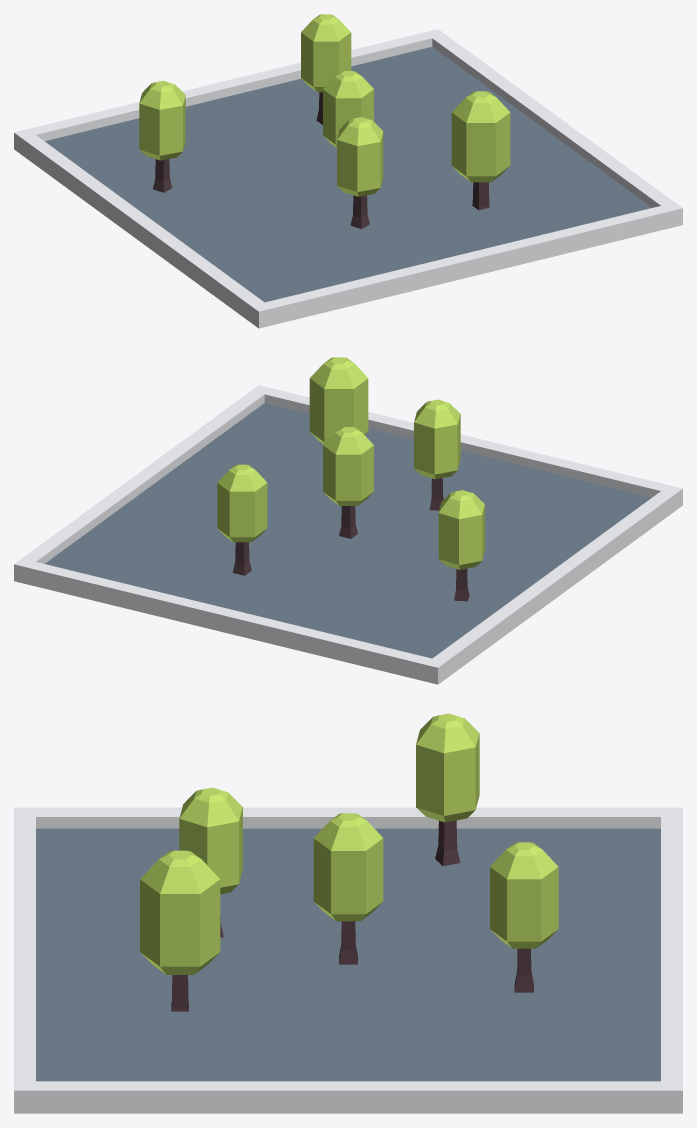
The model's file is tree.glb.
3 renders of one model, top to bottom at view 1: azimuth 30°, elevation 25°; view 2: azimuth 150°, elevation 25°; view 3: azimuth 270°, elevation 25°, orthographic. The views are drawn at different scales.
Visible parts, largest first — view 1: Plane; view 2: Plane; view 3: Plane.
Boxes of the visible parts, <box> form: Plane: <box>14,14,682,328</box>; Plane: <box>14,357,682,684</box>; Plane: <box>14,713,682,1113</box>.
Size of the model in its own units: 1 by 0.2833 by 1.
